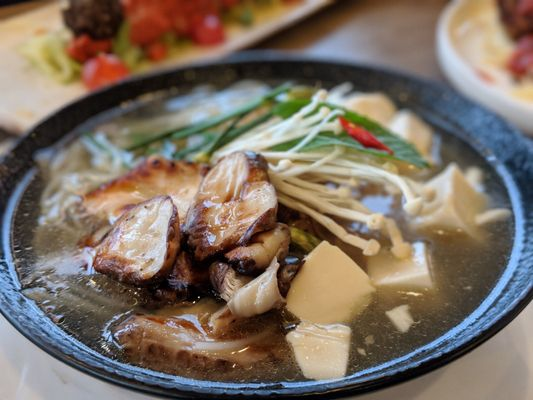sushi: (434, 0, 533, 139)
